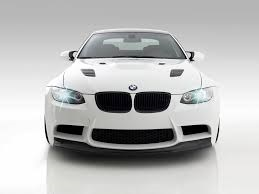bmw: (36, 23, 225, 160)
